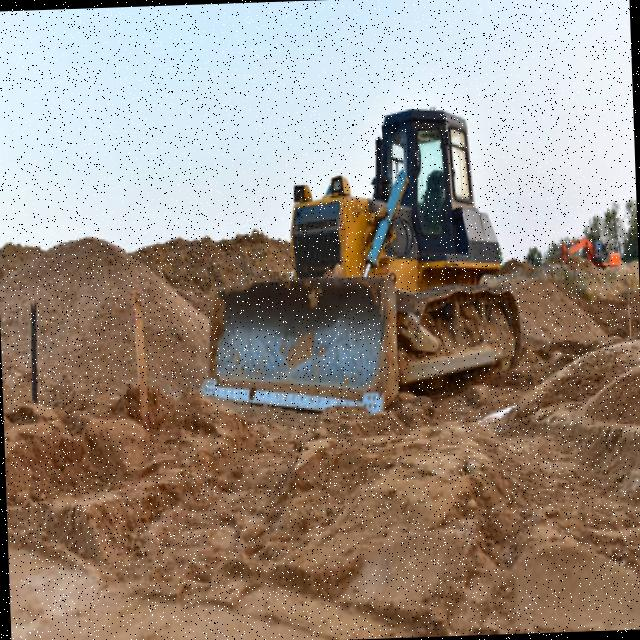Bulldozer: (188, 102, 524, 416)
